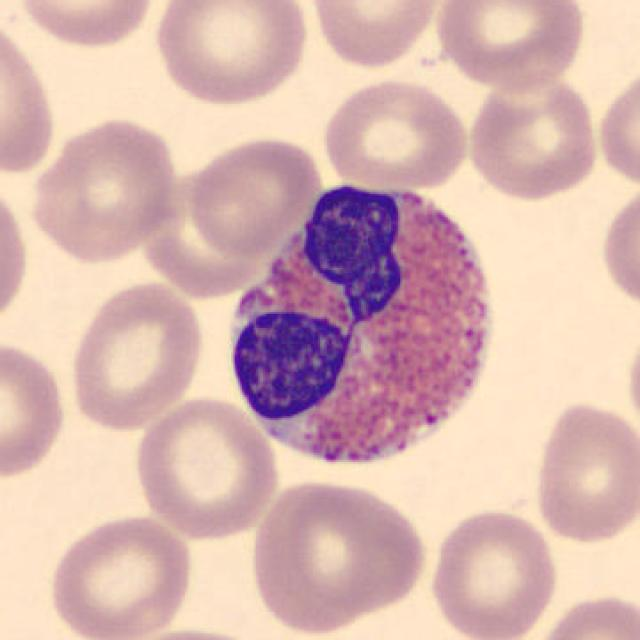Nuclei: (235, 184, 406, 419)
